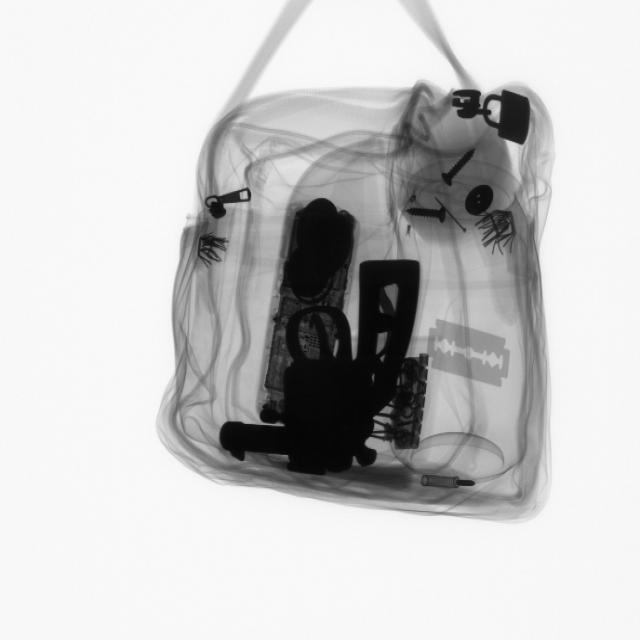BLADE: (422, 311, 517, 393)
GUN: (221, 256, 418, 476)
SCREW: (436, 143, 478, 193), (398, 197, 453, 231)
